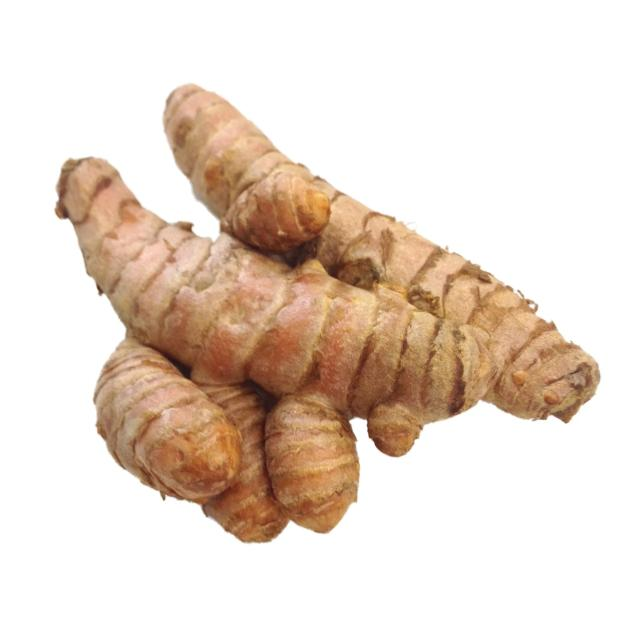turmeric: (160, 77, 588, 460), (47, 143, 610, 395), (78, 341, 242, 509)
